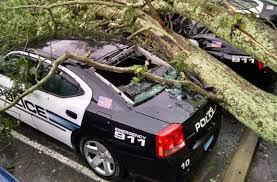Rear-windscreen-Damage: (104, 48, 183, 95)
